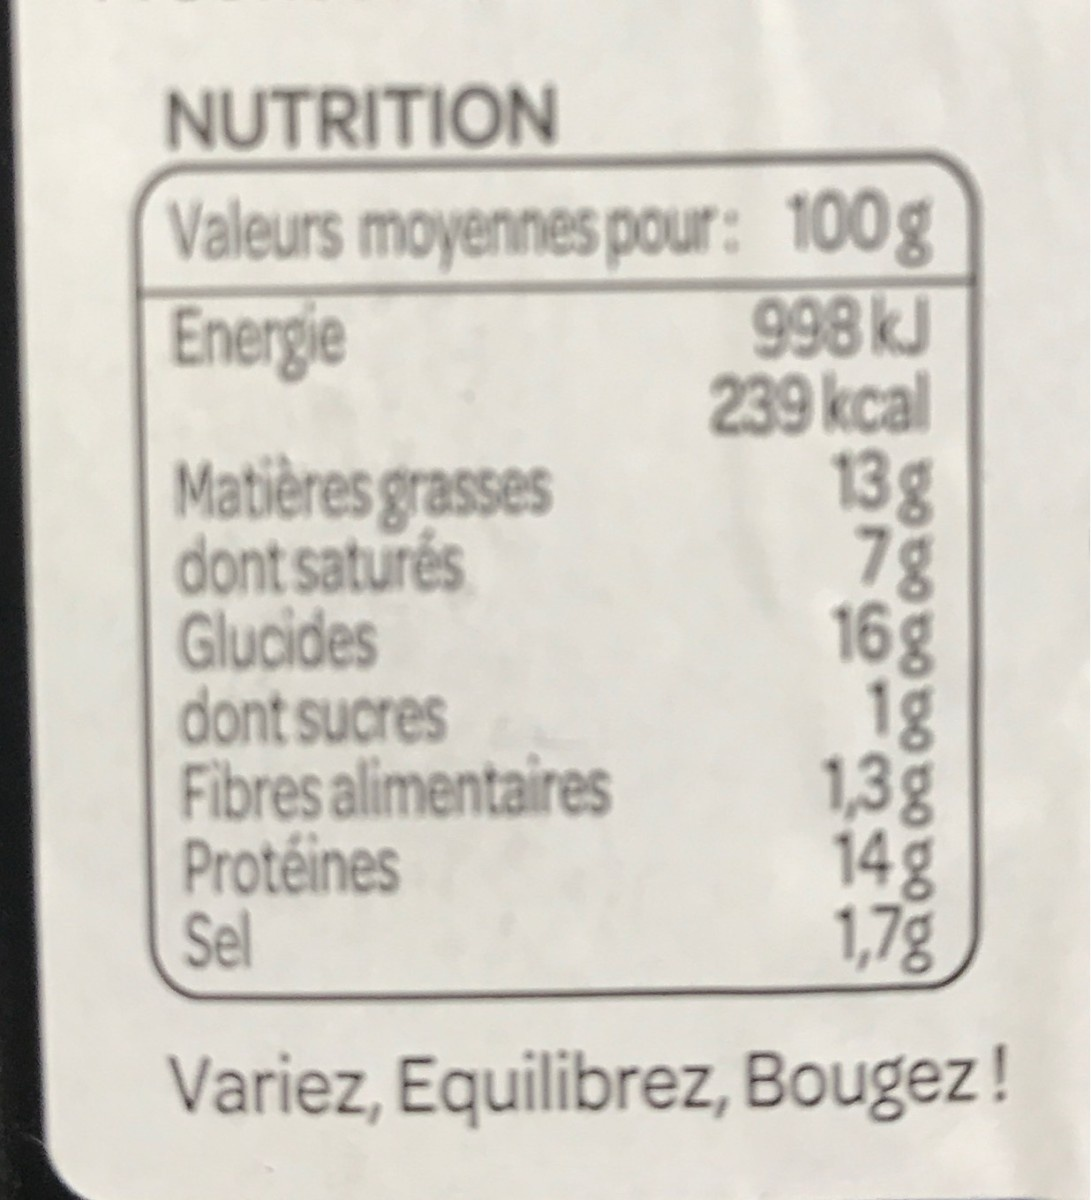column: (133, 168, 732, 1006), (744, 163, 967, 1012)
table: (133, 164, 989, 997)
